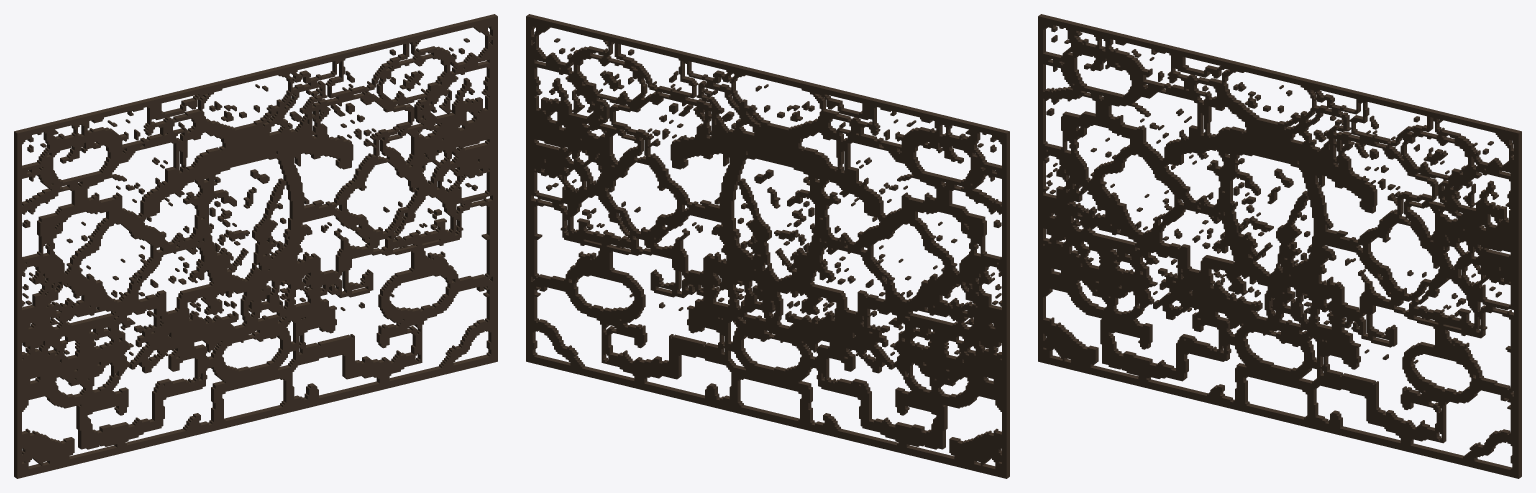
File: lattice_window.glb
3 renders of one model, left to right at view 1: azimuth 30°, elevation 25°; view 2: azimuth 150°, elevation 25°; view 3: azimuth 330°, elevation 25°, orthographic.
Parts seen in each view (by area): view 1: Lattice_Silhouette; view 2: Lattice_Silhouette; view 3: Lattice_Silhouette.
Part boxes in pixels (box(x1,y1,x2,y2)): Lattice_Silhouette: box(14, 14, 497, 478); Lattice_Silhouette: box(526, 14, 1009, 478); Lattice_Silhouette: box(1038, 14, 1521, 478).
Bounding box in the file's own units: 1.5 × 1.03 × 0.0165.
